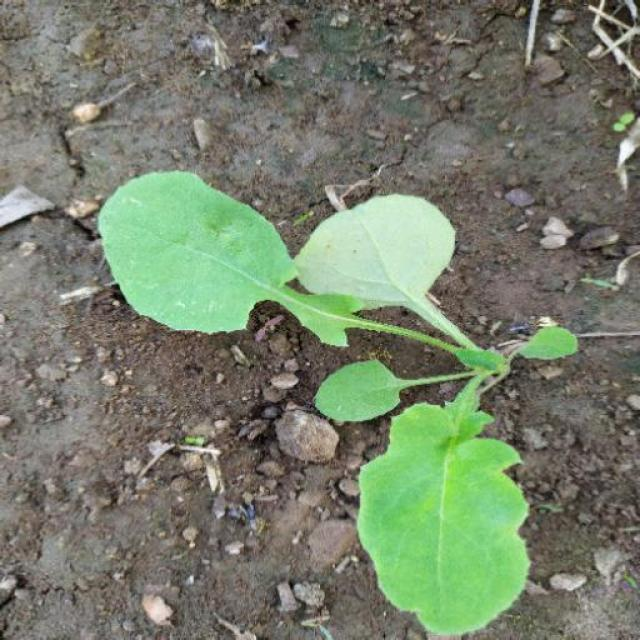weed: (94, 171, 581, 640)
